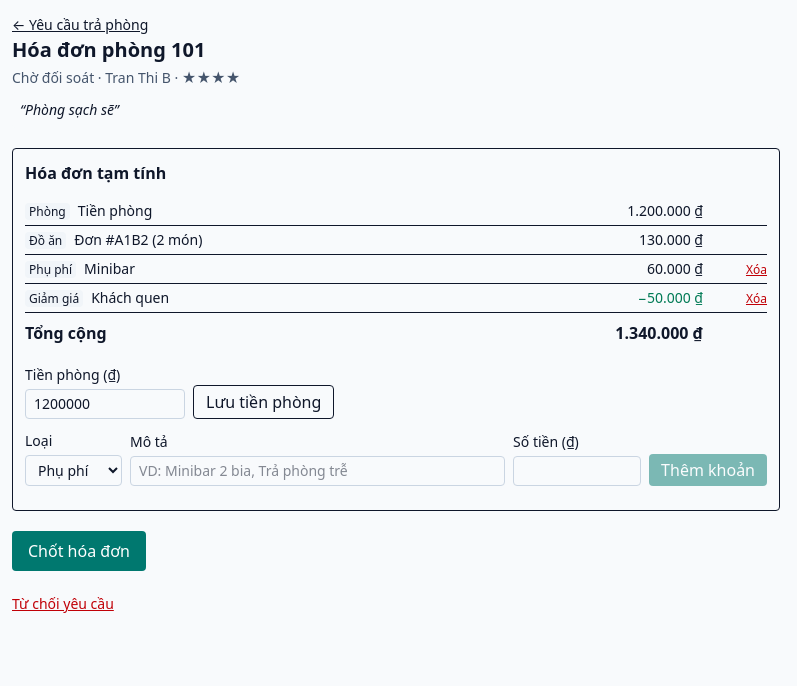
Test case: CheckoutDesk — before the bill is verified › explains OPEN_ORDERS_EXIST
Click the button "Chốt hóa đơn".
click(79, 551)  # box x1=12 y1=531 x2=146 y2=571
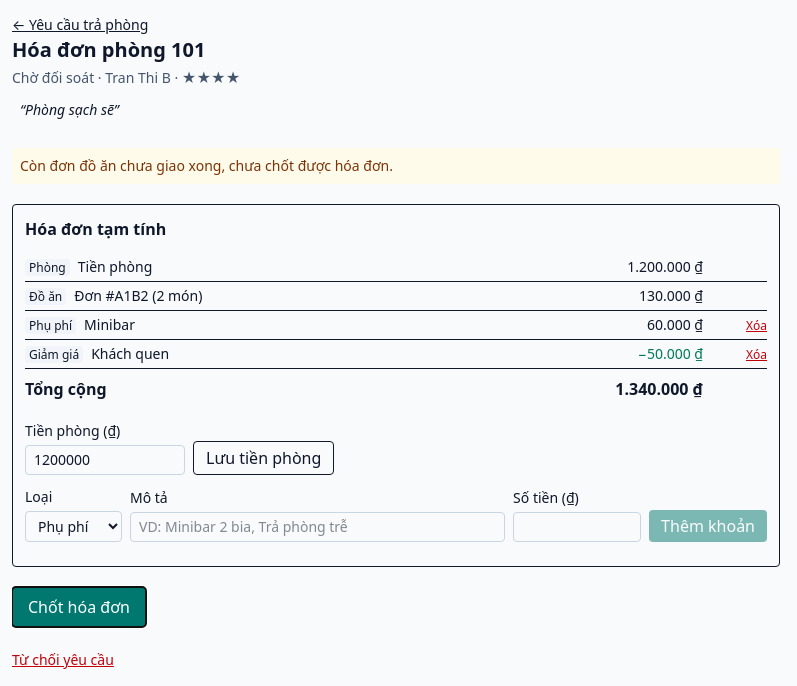
Result: the message shows "Còn đơn đồ ăn chưa giao xong" at x1=20 y1=156 x2=393 y2=175
